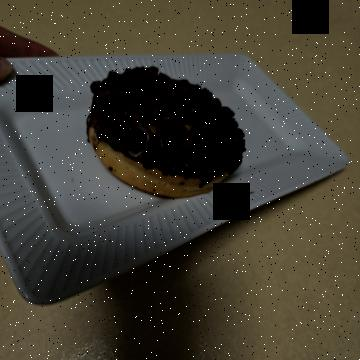doughnut: (56, 106, 208, 289)
